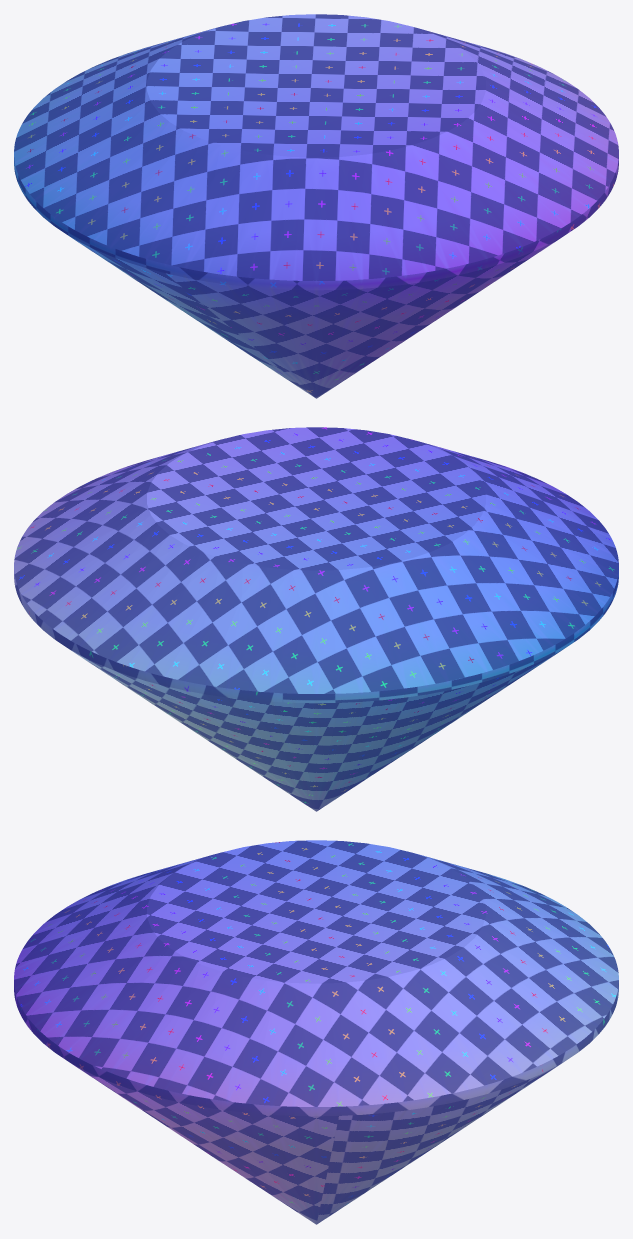
The model's file is Gem.gltf.
3 renders of one model, top to bottom at view 1: azimuth 30°, elevation 25°; view 2: azimuth 150°, elevation 25°; view 3: azimuth 270°, elevation 25°, orthographic.
Parts seen in each view (by area): view 1: Gem; view 2: Gem; view 3: Gem.
Part boxes in pixels (left/top/right/bottom): Gem: left=14, top=14, right=618, bottom=398; Gem: left=14, top=427, right=618, bottom=811; Gem: left=14, top=840, right=618, bottom=1224.
Size of the model in its own units: 2 by 1.14 by 2.
Materials: 1 (1 with a texture image).
